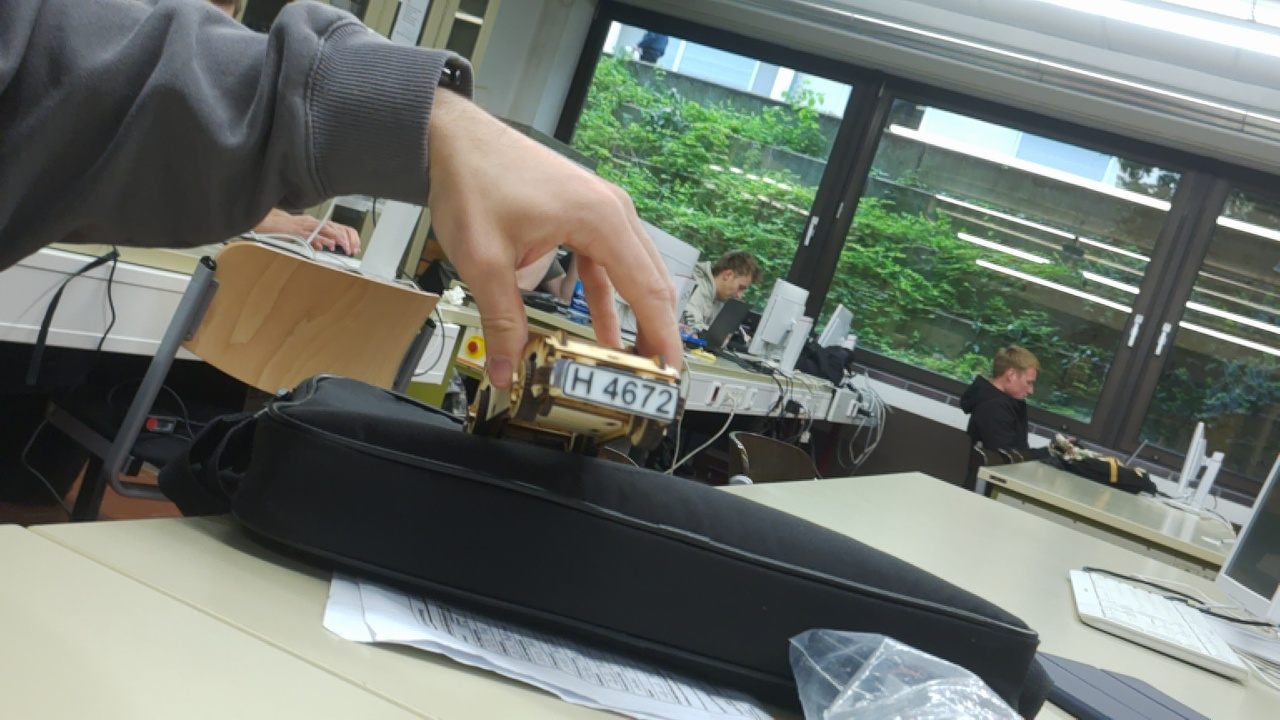license_plate: (553, 349, 682, 428)
